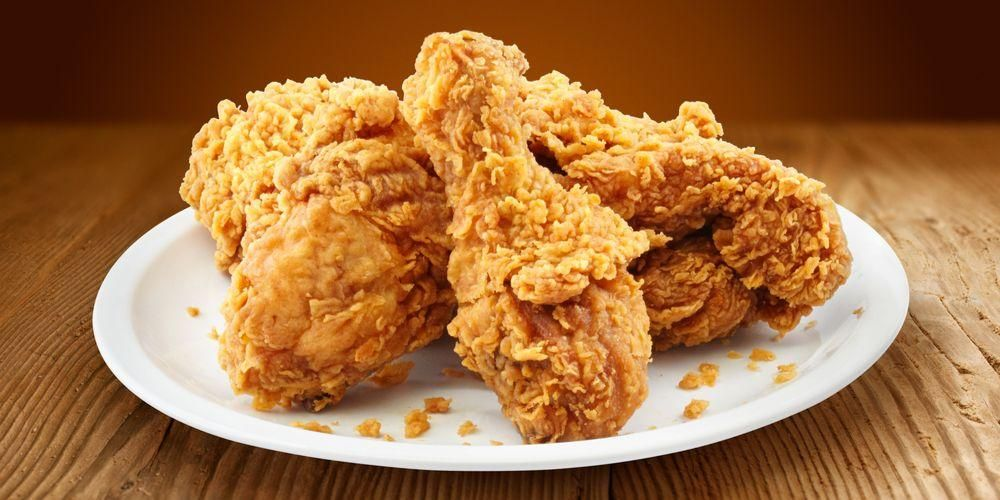Ayam: (382, 24, 649, 456), (151, 91, 447, 413), (542, 93, 851, 333)
